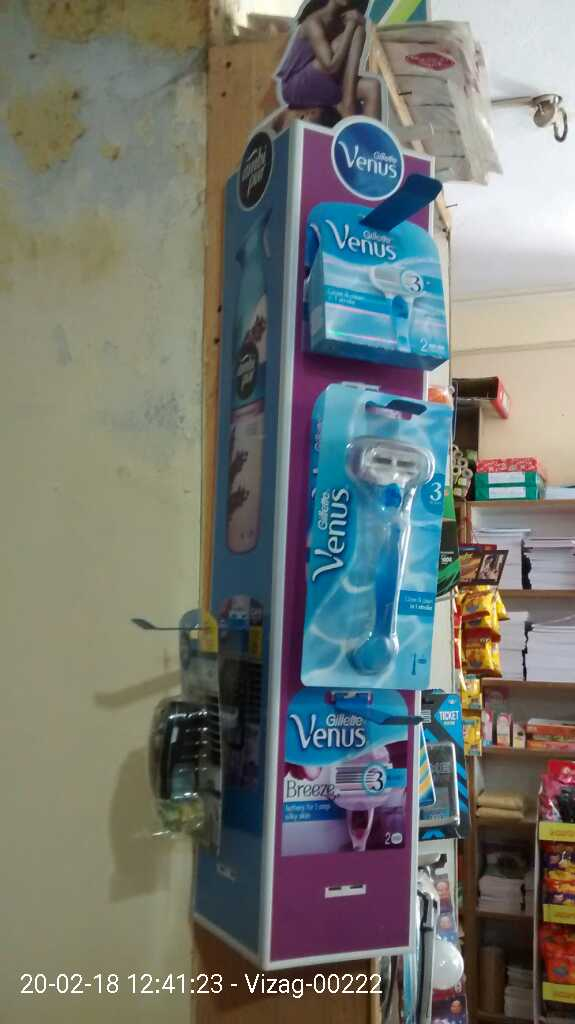venus: (308, 389, 439, 689), (313, 199, 456, 364), (275, 685, 411, 852)
